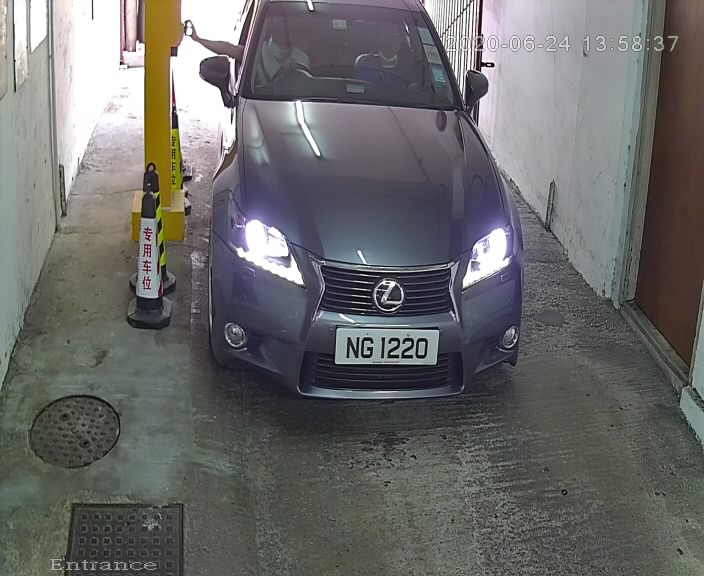Car: (184, 1, 540, 435)
License Plate: (329, 320, 448, 372)
